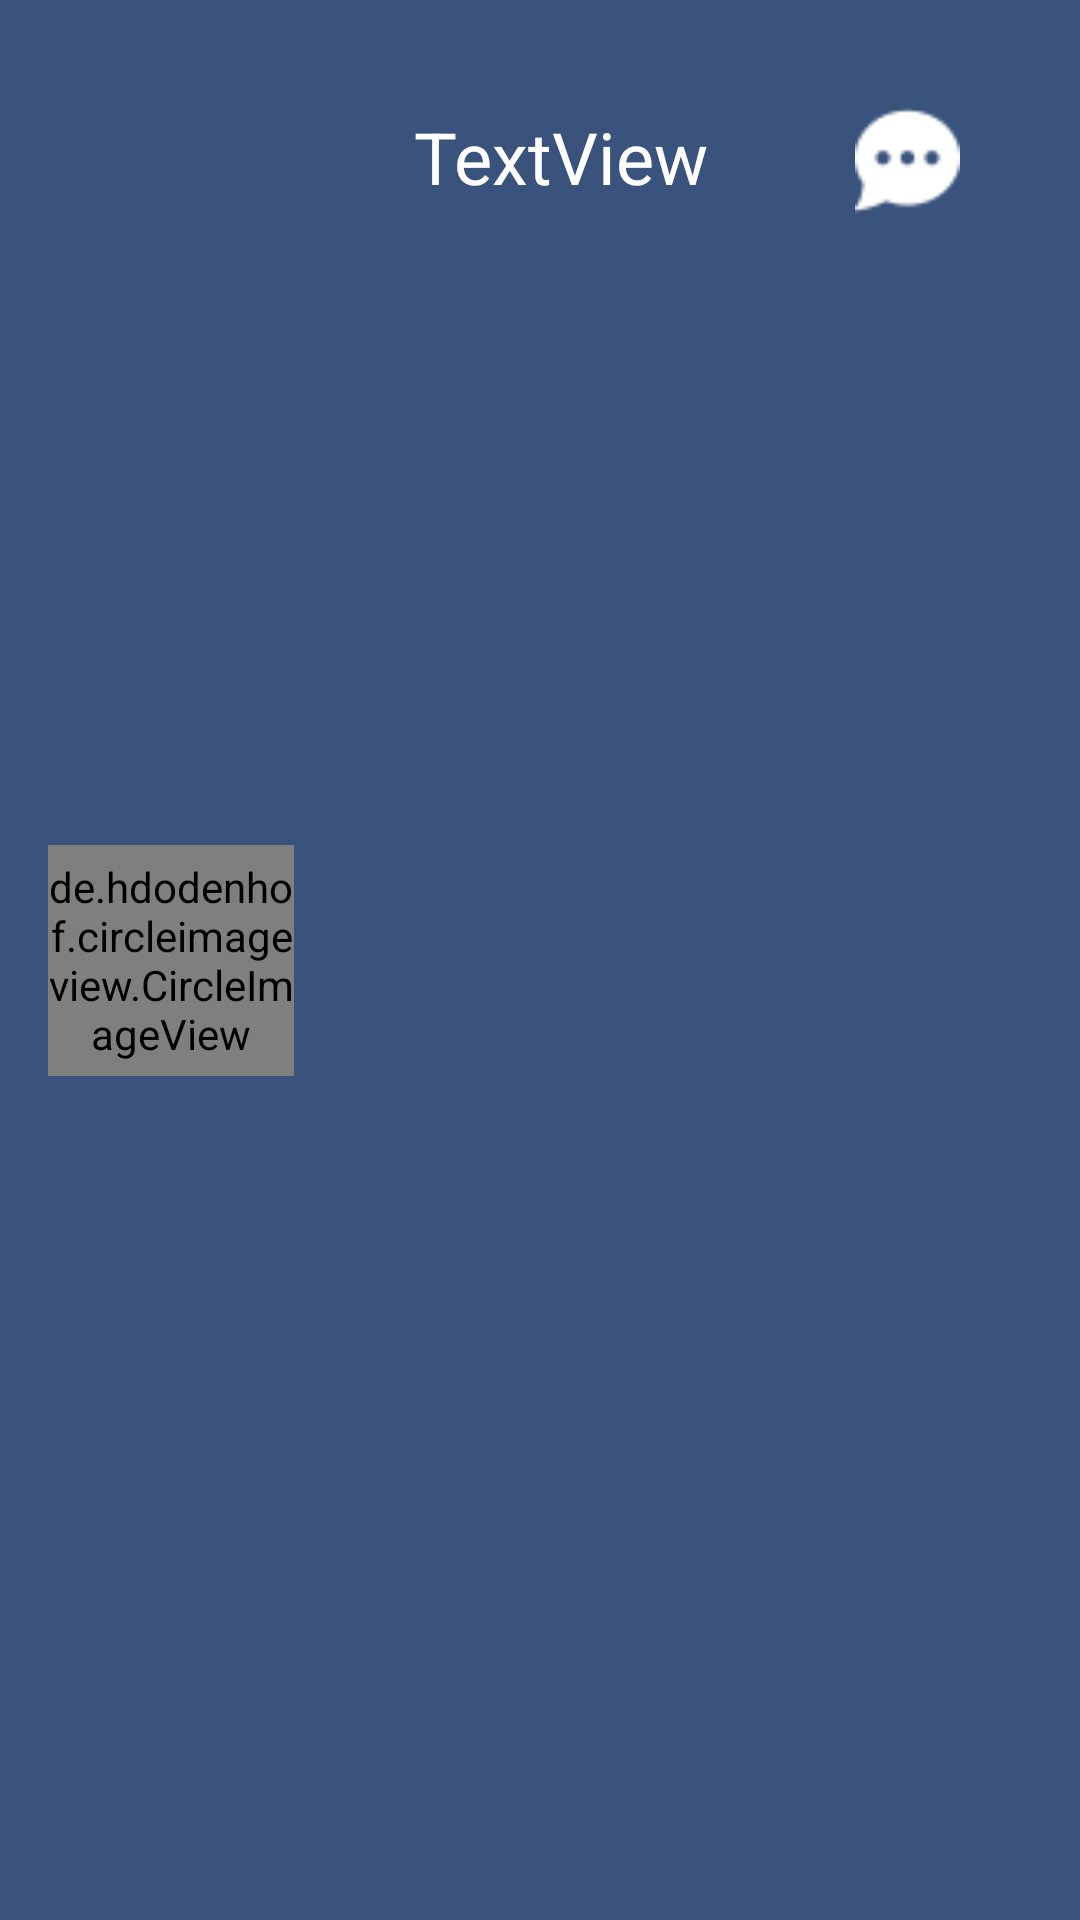

Point at icon controls on the screen. Image size 1080x1920, points as (x=x, y=y).
chat: (x=907, y=160)
